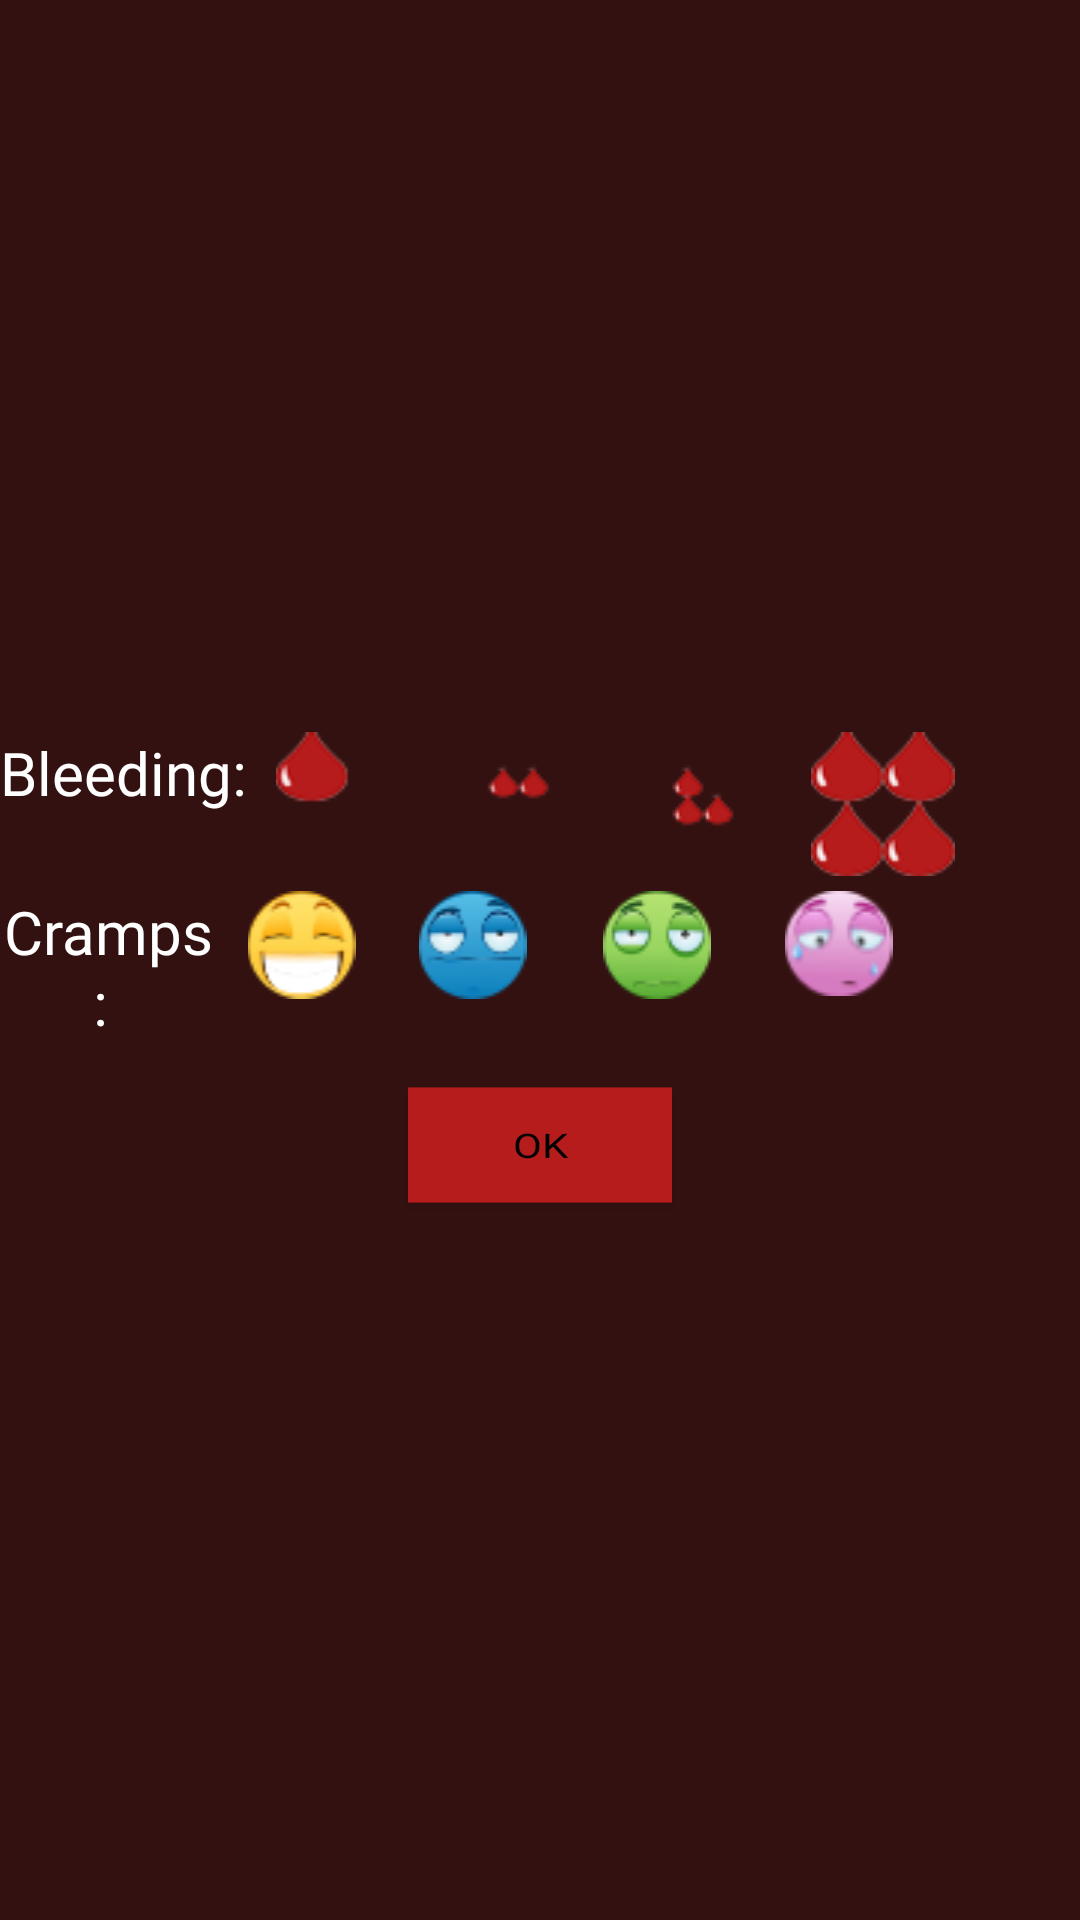

Locate icon controls on the screen. Image size 1080px×1920px, boxes as region(x1, y1, x2, y2).
blood: region(276, 732, 348, 802), region(811, 732, 955, 876), region(672, 767, 734, 826), region(488, 768, 549, 799)
face: region(248, 891, 356, 999), region(419, 891, 527, 999), region(603, 891, 711, 999), region(785, 891, 893, 996)
